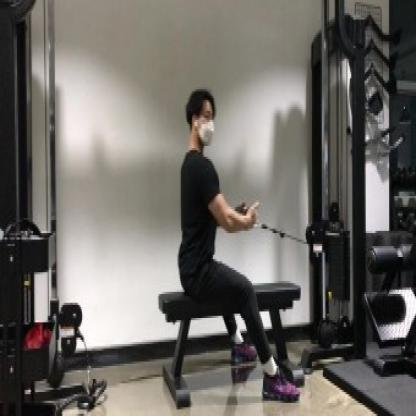Seated Cable Rows: (126, 0, 416, 416)
